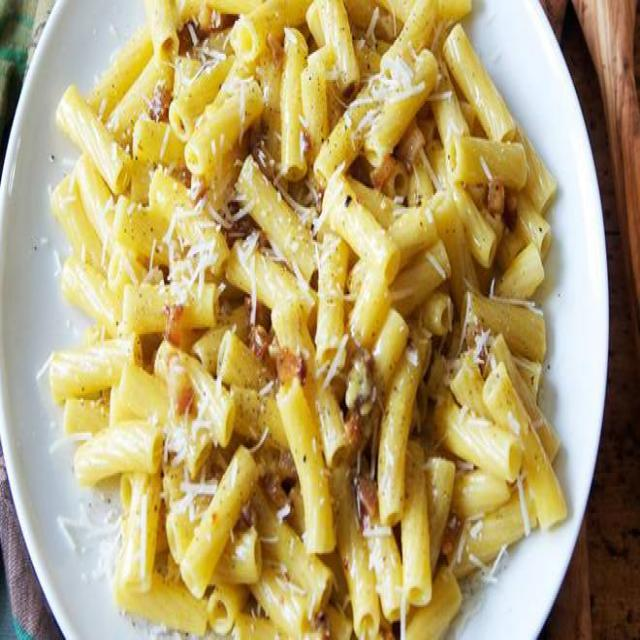Pasta with carbonara sauce: (57, 40, 547, 608)
